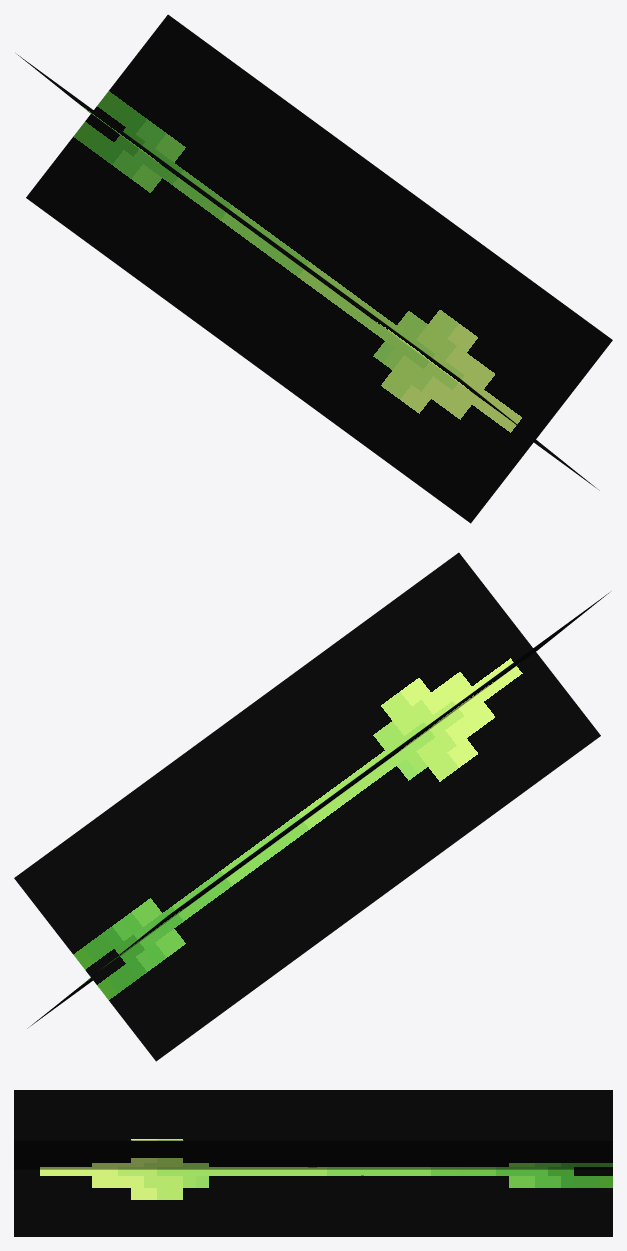
The model's file is quick_shot.gltf.
The picture shows the model from 3 angles, top to bottom: view 1: azimuth 30°, elevation 25°; view 2: azimuth 150°, elevation 25°; view 3: azimuth 270°, elevation 25°; orthographic projection. The views are drawn at different scales.
Visible parts, largest first — view 1: cube (×2); view 2: cube (×2); view 3: cube (×2).
Boxes of the visible parts, x1=… form: cube (×2): x1=17, y1=14, x2=612, y2=523; cube (×2): x1=14, y1=552, x2=609, y2=1061; cube (×2): x1=14, y1=1090, x2=612, y2=1236.
Bounding box in the file's own units: 0.5746 × 0.5304 × 2.88.
Materials: 1 (1 with a texture image).
